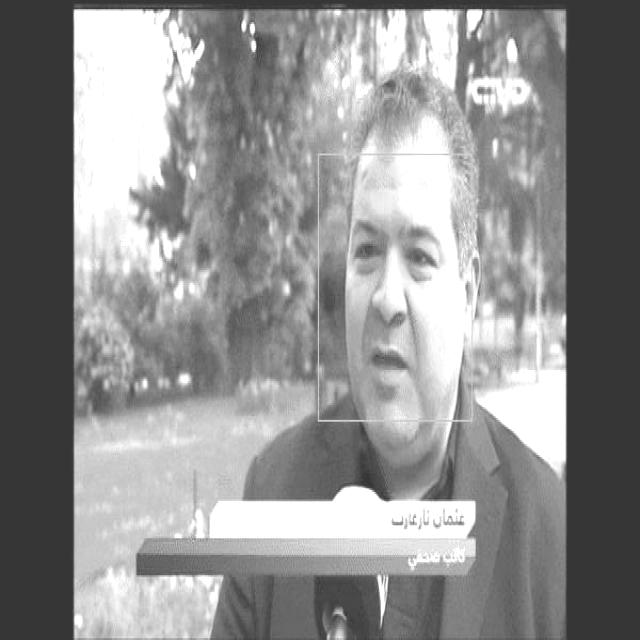fake: (320, 158, 473, 424)
